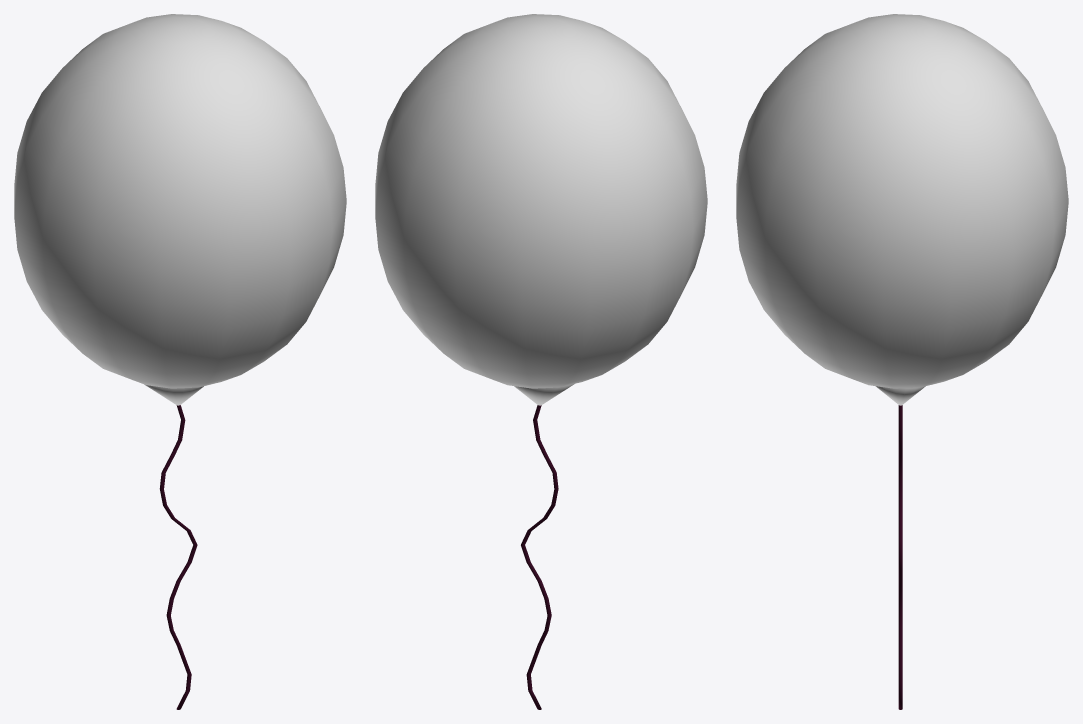
The model's file is Balloon.fbx.
3 views of the same model, side by side, from view 1: azimuth 30°, elevation 25°; view 2: azimuth 150°, elevation 25°; view 3: azimuth 270°, elevation 25° (orthographic).
Visible parts, largest first — view 1: Balloon, Thread; view 2: Balloon, Thread; view 3: Balloon, Thread.
Boxes of the visible parts, x1,y1,x2,y2 form: Balloon: (14,14,346,405); Thread: (159,405,197,709); Balloon: (375,14,707,405); Thread: (521,405,558,709); Balloon: (736,14,1068,405); Thread: (898,405,902,709).
Size of the model in its own units: 199 by 447 by 198.
